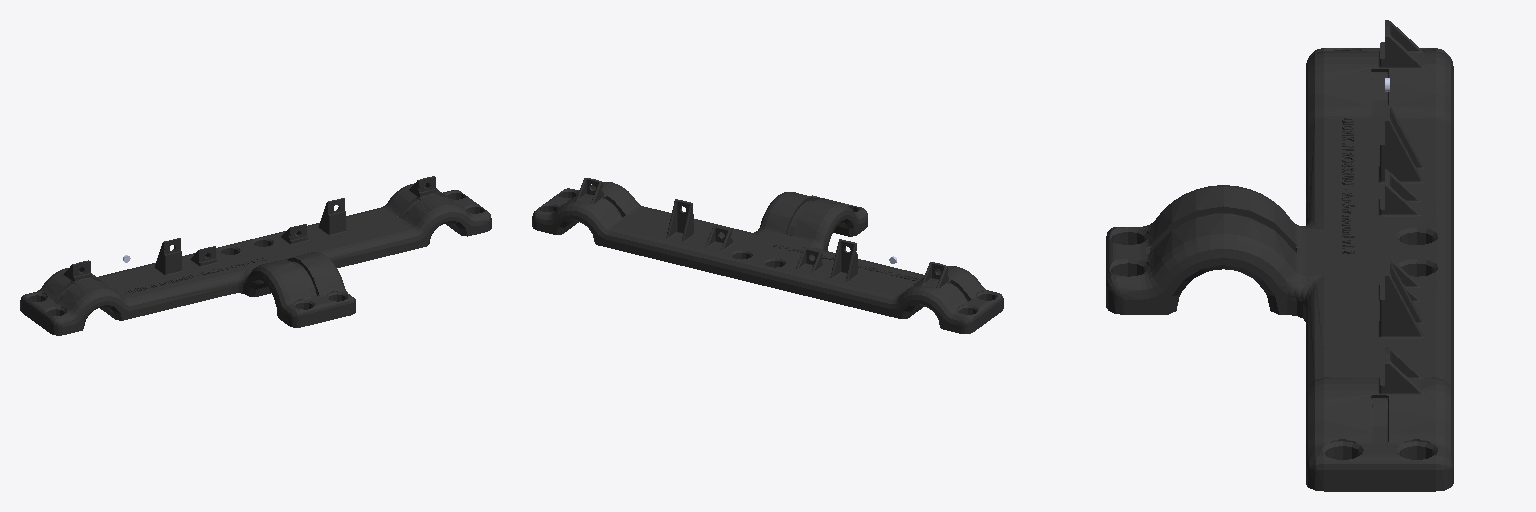
The robot description file, URDF, robot "mount":
<?xml version="1.0" encoding="utf-8"?>
<!-- This URDF was automatically created by SolidWorks to URDF Exporter! Originally created by [author] ([email redacted]) 
     Commit Version: 1.6.0-4-g7f85cfe  Build Version: 1.6.7995.38578
     For more information, please see http://wiki.ros.org/sw_urdf_exporter -->
<robot name="mount">
  <link name="base">
    <inertial>
      <origin
        xyz="-3.0316E-05 -0.44554 0.099342"
        rpy="0 0 0" />
      <mass value="0.13753" />
      <inertia
        ixx="6.8676E-05"
        ixy="3.5231E-09"
        ixz="7.5078E-09"
        iyy="0.00072235"
        iyz="3.2215E-06"
        izz="0.00078376" />
    </inertial>
    <visual>
      <origin
        xyz="0 0 0"
        rpy="0 0 0" />
      <geometry>
        <mesh filename="package://launch/src/sublaunch/description/meshes/mount.stl" />
      </geometry>
      <material
        name="">
        <color rgba="0.25098 0.25098 0.25098 1" />
      </material>
    </visual>
    <collision>
      <origin
        xyz="0 0 0"
        rpy="0 0 0" />
      <geometry>
        <mesh filename="package://launch/src/sublaunch/description/meshes/mount.stl" />
      </geometry>
    </collision>
  </link>
  <link name="radar_pos1">
    <inertial>
      <origin
        xyz="-1.1102E-16 0 1.3878E-17"
        rpy="0 0 0" />
      <mass
        value="1.9458E-05" />
      <inertia
        ixx="4.017E-11"
        ixy="-2.068E-26"
        ixz="6.4623E-28"
        iyy="2.3733E-11"
        iyz="-1.7652E-42"
        izz="2.3733E-11" />
    </inertial>
    <visual>
      <origin
        xyz="0 0 0"
        rpy="0 0 0" />
      <geometry>
        <mesh filename="package://launch/src/sublaunch/description/meshes/radar_pos1.STL" />
      </geometry>
      <material
        name="">
        <color
          rgba="0.79216 0.81961 0.93333 0" />
      </material>
    </visual>
    <collision>
      <origin
        xyz="0 0 0"
        rpy="0 0 0" />
      <geometry>
        <mesh filename="package://launch/src/sublaunch/description/meshes/radar_pos1.STL" />
      </geometry>
    </collision>
  </link>
  <joint name="radar_pos1_joint"
    type="fixed">
    <origin
      xyz="-0.079903 -0.43494 0.11628"
      rpy="0 0 -1.5708" />
    <parent link="base" />
    <child
      link="radar_pos1" />
    <axis
      xyz="0 0 0" />
  </joint>
  <link
    name="radar_pos0">
    <inertial>
      <origin
        xyz="-5.5511E-17 -4.1633E-17 -3.4694E-18"
        rpy="0 0 0" />
      <mass
        value="1.9458E-05" />
      <inertia
        ixx="4.017E-11"
        ixy="-2.068E-26"
        ixz="6.4623E-28"
        iyy="2.3733E-11"
        iyz="-1.7652E-42"
        izz="2.3733E-11" />
    </inertial>
    <visual>
      <origin
        xyz="0 0 0"
        rpy="0 0 0" />
      <geometry>
        <mesh
          filename="package://launch/src/sublaunch/description/meshes/radar_pos0.STL" />
      </geometry>
      <material
        name="">
        <color
          rgba="0.79216 0.81961 0.93333 0" />
      </material>
    </visual>
    <collision>
      <origin
        xyz="0 0 0"
        rpy="0 0 0" />
      <geometry>
        <mesh
          filename="package://launch/src/sublaunch/description/meshes/radar_pos0.STL" />
      </geometry>
    </collision>
  </link>
  <joint
    name="radar_pos0_joint"
    type="fixed">
    <origin
      xyz="-0.001 -0.43494 0.10651"
      rpy="1.5708 0 -1.5708" />
    <parent
      link="base" />
    <child
      link="radar_pos0" />
    <axis
      xyz="0 0 0" />
  </joint>
  <link
    name="radar_pos2">
    <inertial>
      <origin
        xyz="0 0 0"
        rpy="0 0 0" />
      <mass
        value="0" />
      <inertia
        ixx="0"
        ixy="0"
        ixz="0"
        iyy="0"
        iyz="0"
        izz="0" />
    </inertial>
    <visual>
      <origin
        xyz="0 0 0"
        rpy="0 0 0" />
      <geometry>
        <mesh
          filename="package://launch/src/sublaunch/description/meshes/radar_pos2.STL" />
      </geometry>
      <material
        name="">
        <color
          rgba="1 1 1 0" />
      </material>
    </visual>
    <collision>
      <origin
        xyz="0 0 0"
        rpy="0 0 0" />
      <geometry>
        <mesh
          filename="package://launch/src/sublaunch/description/meshes/radar_pos2.STL" />
      </geometry>
    </collision>
  </link>
  <joint
    name="radar_pos2_joint"
    type="fixed">
    <origin
      xyz="0.079902749875 -0.434940310662667 0.116283693634092"
      rpy="0 0 -1.5707963267949" />
    <parent
      link="base" />
    <child
      link="radar_pos2" />
    <axis
      xyz="0 0 0" />
  </joint>
</robot>

--- What the picture shows (computed from the rendered views, not written in the file) ---
The picture shows the robot from 3 angles, left to right: view 1: azimuth 30°, elevation 25°; view 2: azimuth 150°, elevation 25°; view 3: azimuth 270°, elevation 25°; orthographic projection.
Robot: mount — 4 links, 3 joints (3 fixed); root link base; default pose: every joint at zero.
Links seen in each view (by area): view 1: base; view 2: base; view 3: base.
Link boxes in pixels (x1=…): base: x1=20, y1=176, x2=491, y2=335; base: x1=532, y1=178, x2=1003, y2=333; base: x1=1106, y1=20, x2=1453, y2=491.
Bounding box of the posed robot: 0.2758 × 0.0975 × 0.0289 m (x, y, z).
Meshes: 4 distinct files referenced, 2 mesh visuals loaded (2 binary STL); not drawn: 2 (reference not matched to a file when rendering).
